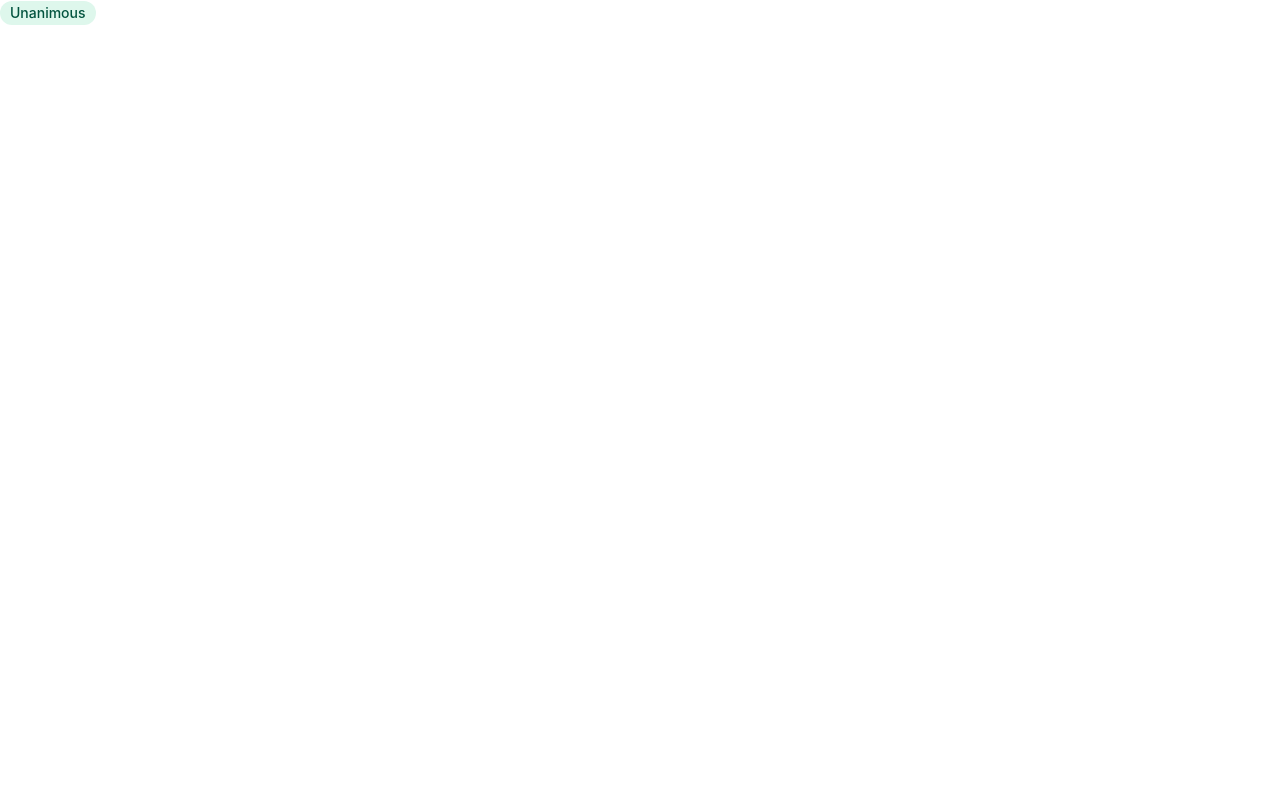
Test: RuleBadge › clicking unanimous opens the rules modal with every rule and the current one highlighted
The image size is (1280, 800).
Click the button with aria-label "Rule:".
click(48, 13)  # box [0,1,96,25]
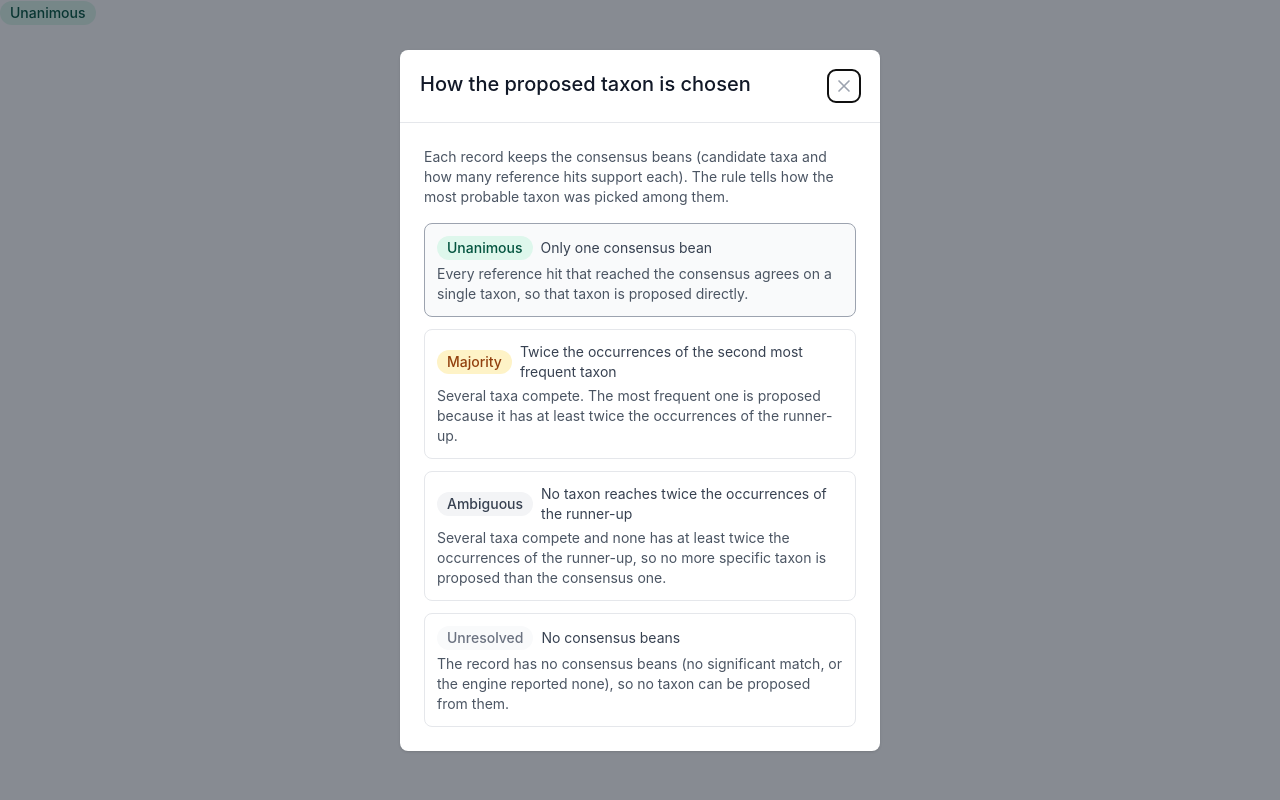
Now the dialog shows "How the proposed taxon is chosen", box [420,72,751,96]
Now the list item that starts with "Unanimous" is shown, box [447,238,522,256]
Now the list item that starts with "Unanimous" shows "Every reference hit that reached the consensus agrees on a single taxon, so that taxon is proposed directly.", box [437,264,832,302]
